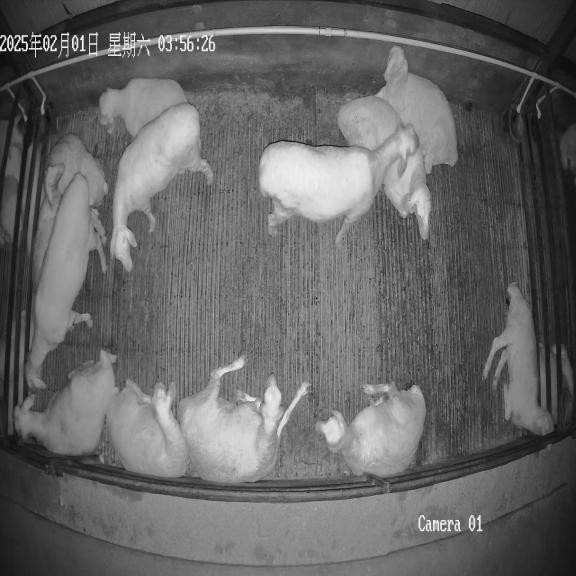lying: (179, 356, 309, 483), (337, 95, 431, 238), (482, 282, 553, 434), (15, 350, 116, 455), (315, 383, 426, 478), (376, 46, 458, 172), (46, 134, 108, 272), (106, 380, 189, 478), (99, 78, 187, 138), (32, 164, 63, 288)
stand: (259, 126, 420, 244), (110, 103, 214, 272), (26, 173, 106, 389)
